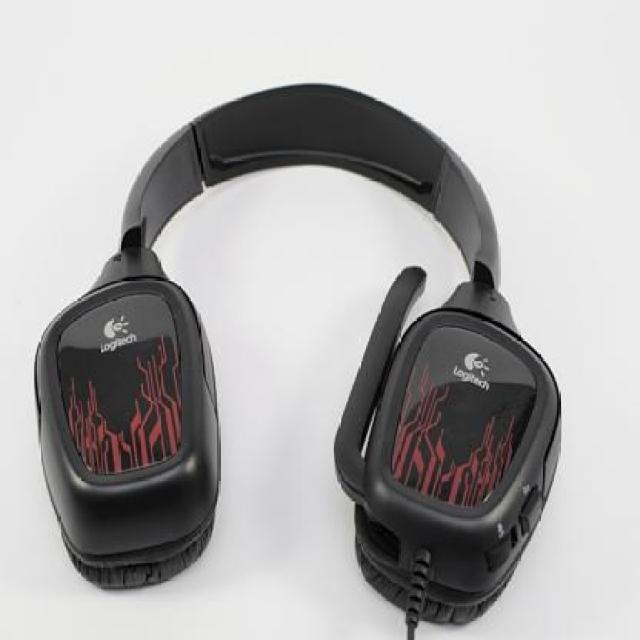earphone: (10, 57, 567, 620)
